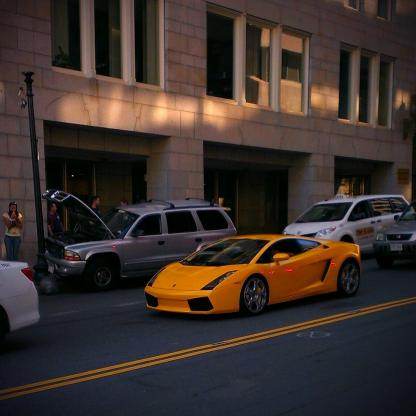Car: (44, 190, 239, 293), (144, 234, 363, 316), (283, 197, 416, 254), (373, 200, 416, 271), (2, 261, 41, 335)
